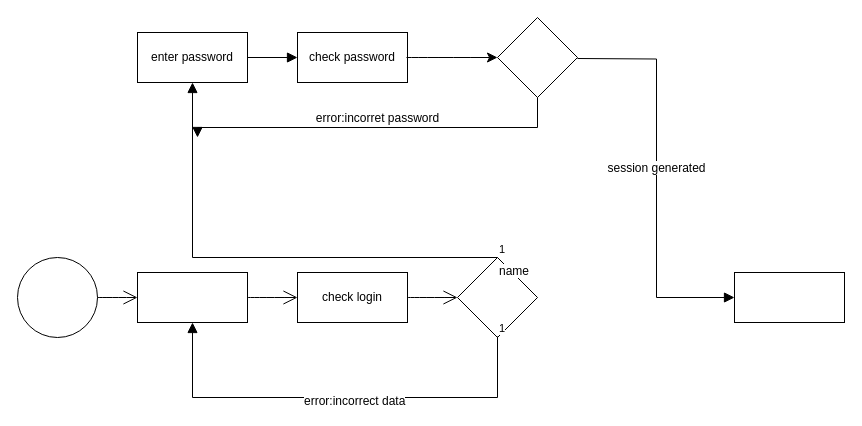
Image size: 862x426. Some labels were removed from this diagram. The shapes that lost their labels are listed below. From the top down, each one's centre as x and y in pixels, then its label:
At point 192,297: "enter login".
At point 789,297: "Open Main Menu".
